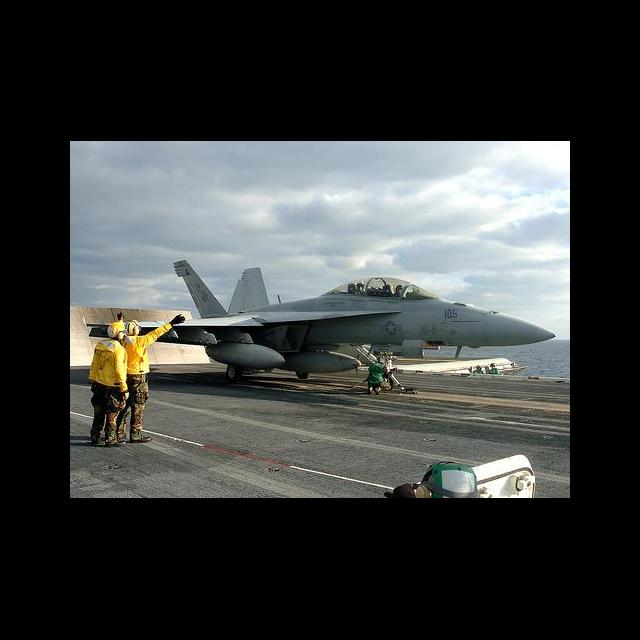Gloves: (169, 313, 185, 325), (122, 390, 130, 401), (117, 311, 124, 320), (393, 367, 398, 371)
Hardhat: (107, 324, 127, 340), (124, 320, 141, 336), (376, 357, 384, 363), (491, 363, 496, 368), (476, 366, 482, 370)
NO-Safety Vest: (366, 357, 399, 395), (368, 363, 385, 383)
Person: (116, 310, 186, 441), (89, 323, 130, 447), (488, 364, 499, 374), (474, 367, 484, 374)
Safety Vest: (90, 341, 122, 387), (121, 335, 151, 374)
